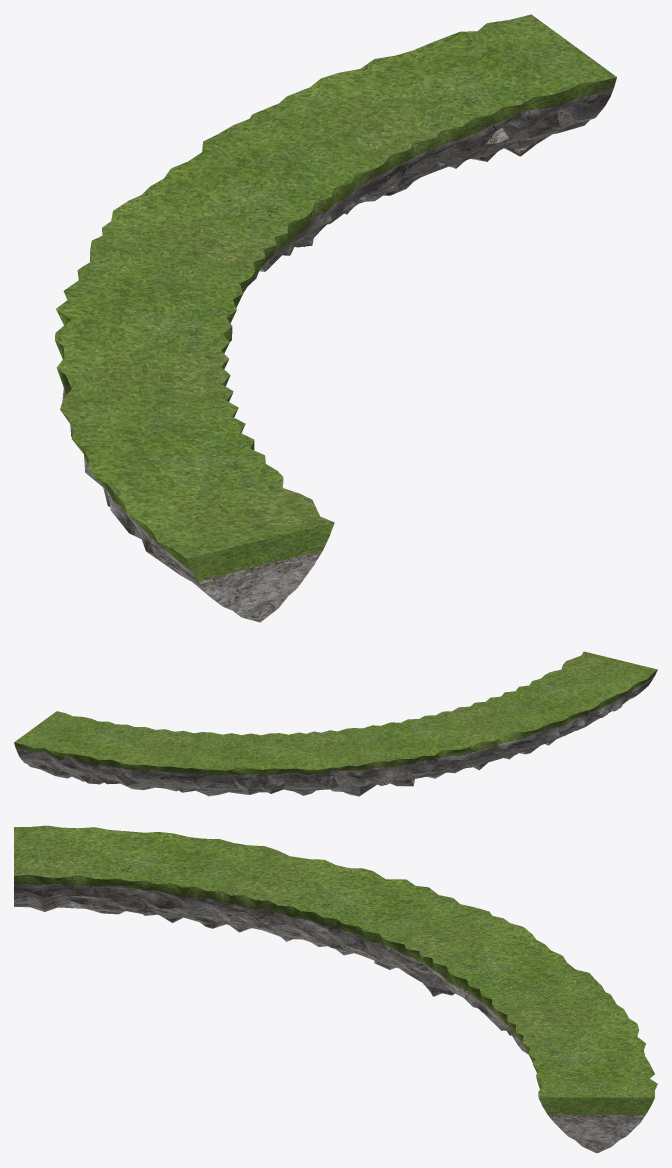
The model's file is Bocht90_Long.FBX.
The picture shows the model from 3 angles, top to bottom: view 1: azimuth 30°, elevation 25°; view 2: azimuth 150°, elevation 25°; view 3: azimuth 270°, elevation 25°; orthographic projection. The views are drawn at different scales.
Parts seen in each view (by area): view 1: Bocht90_Way_Long_Final003; view 2: Bocht90_Way_Long_Final003; view 3: Bocht90_Way_Long_Final003.
Part boxes in pixels (left/top/right/bottom): Bocht90_Way_Long_Final003: left=55, top=14, right=616, bottom=622; Bocht90_Way_Long_Final003: left=14, top=651, right=657, bottom=796; Bocht90_Way_Long_Final003: left=14, top=825, right=657, bottom=1153.
Bounding box in the file's own units: 2211 × 258 × 2210.
